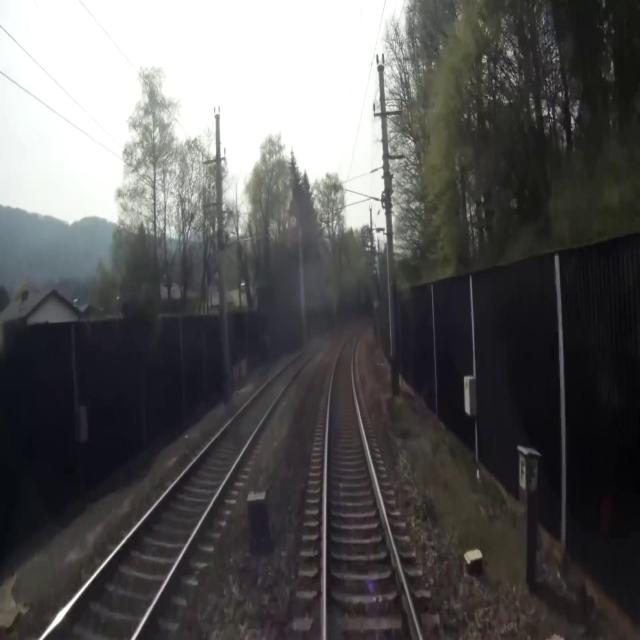rail-track: (45, 341, 321, 639), (328, 331, 418, 639)
